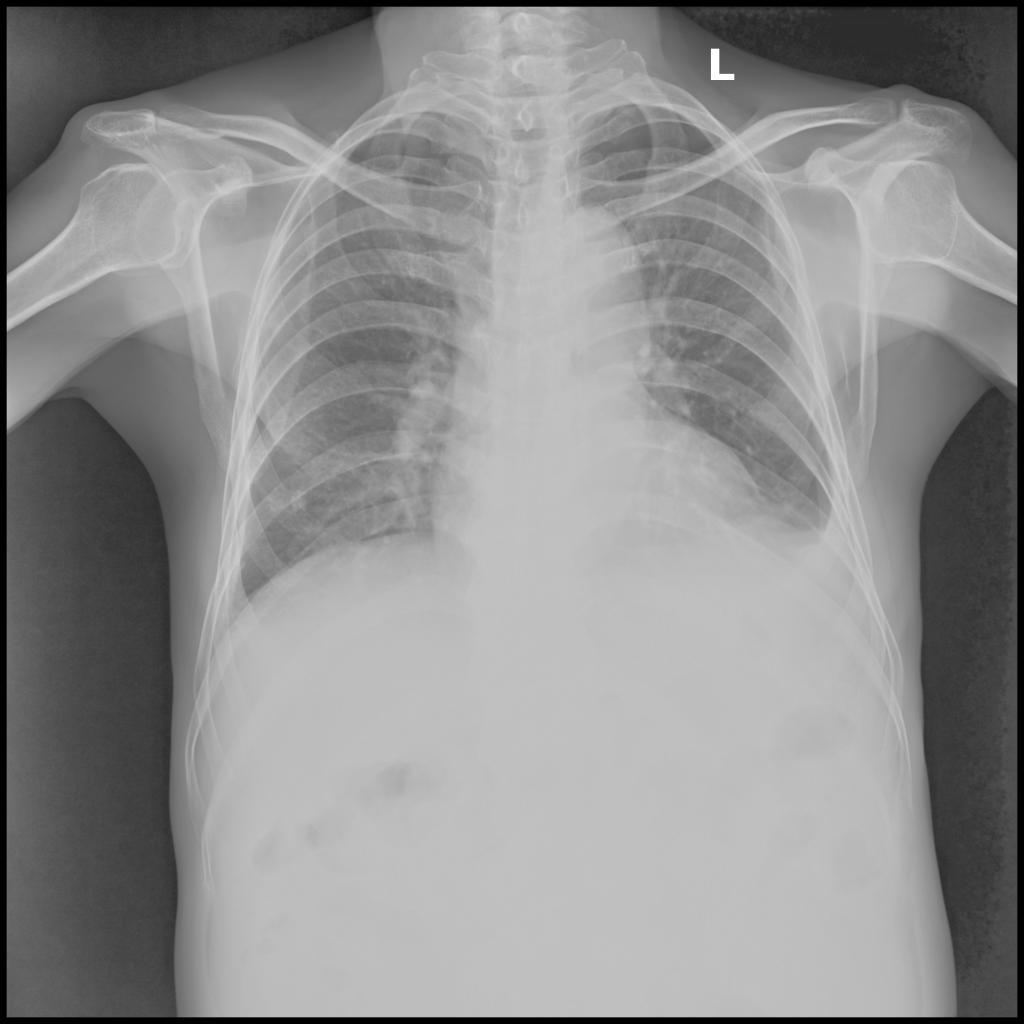Nodule: (288, 489, 313, 513)
